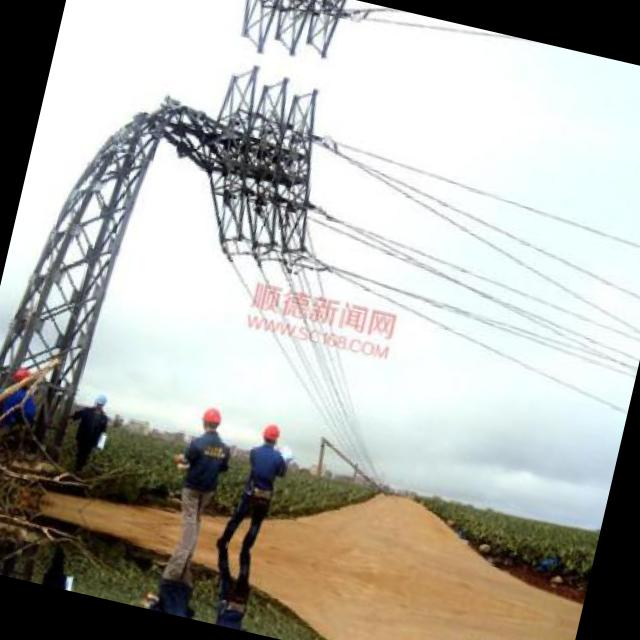helmet: (196, 402, 228, 437), (8, 364, 40, 394), (255, 420, 282, 450), (84, 386, 110, 412)
